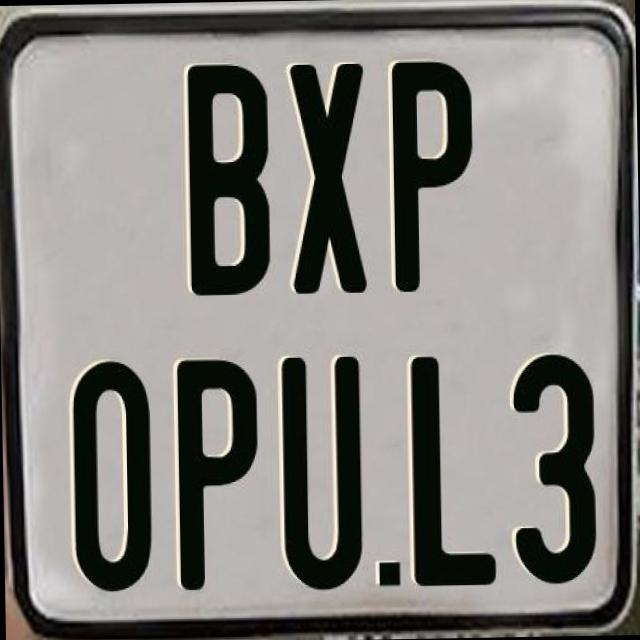0: (70, 356, 154, 590)
3: (512, 354, 602, 587)
B: (187, 64, 273, 296)
L: (406, 351, 492, 591)
P: (175, 358, 261, 592), (392, 56, 476, 290)
U: (278, 353, 360, 597)
X: (287, 62, 373, 295)
